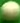white: (0, 0, 20, 23)
